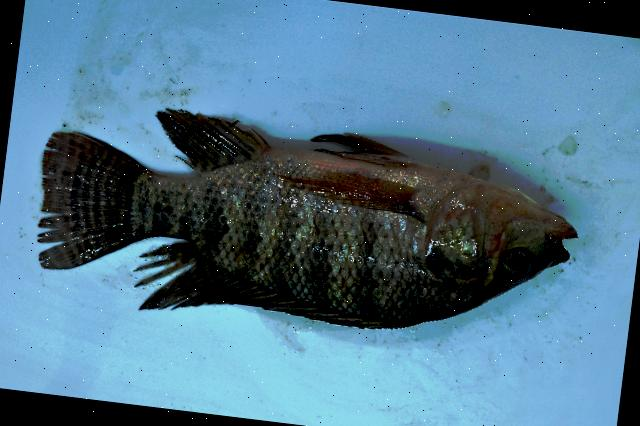Columnaris Disease: (37, 109, 576, 327)
